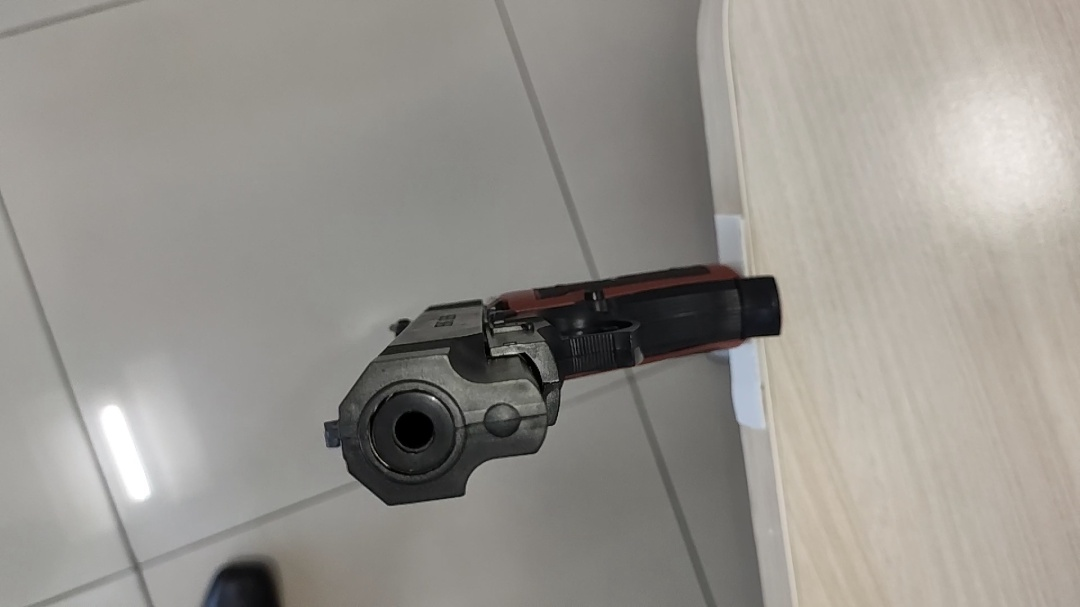gun: (382, 198, 410, 245)
